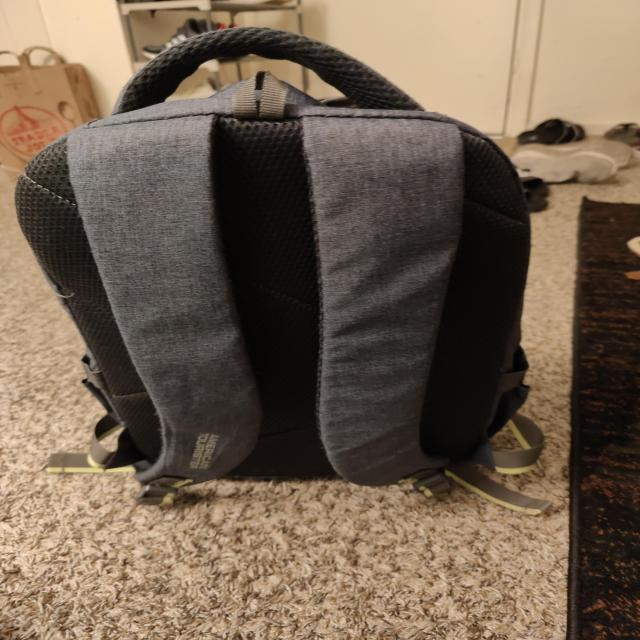bag: (24, 51, 523, 476)
